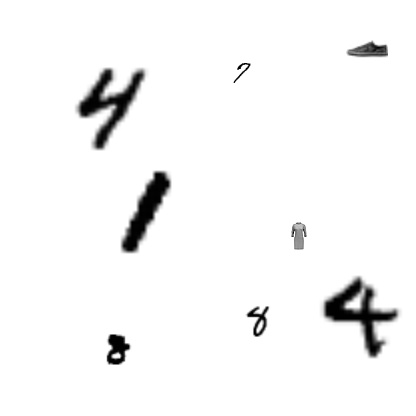1: (90, 152, 202, 264)
4: (52, 45, 164, 157), (301, 257, 413, 369)
7: (228, 56, 256, 84)
8: (237, 299, 279, 341), (95, 327, 137, 369)
Dress: (285, 222, 313, 250)
Sneaker: (346, 27, 388, 69)
